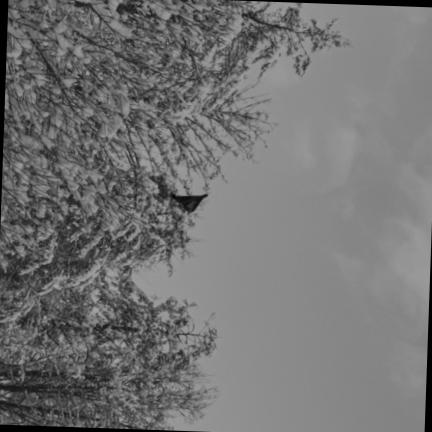Shahed: (171, 195, 207, 213)
